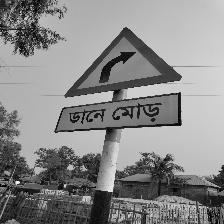Right-turn: (56, 28, 184, 133)
